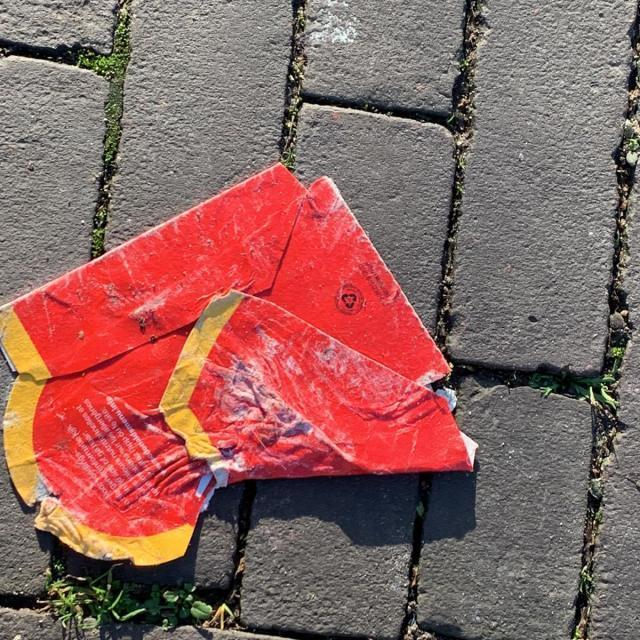Paper: (1, 158, 482, 576)
